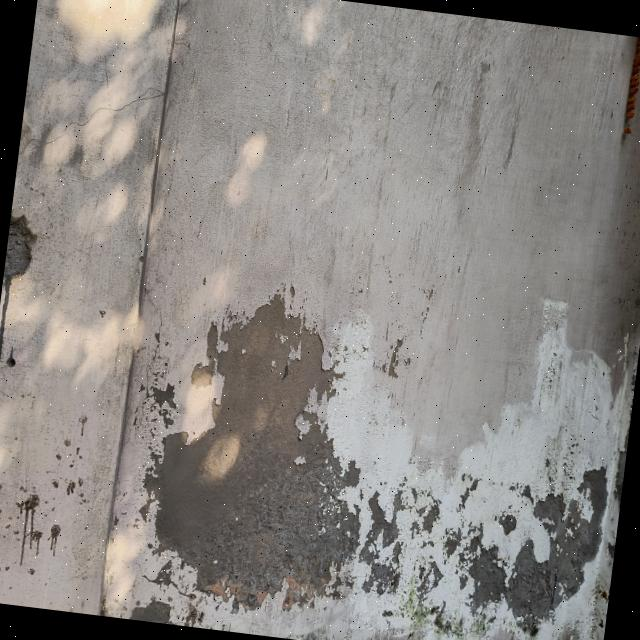Scaling: (102, 289, 631, 640), (3, 215, 36, 277)
